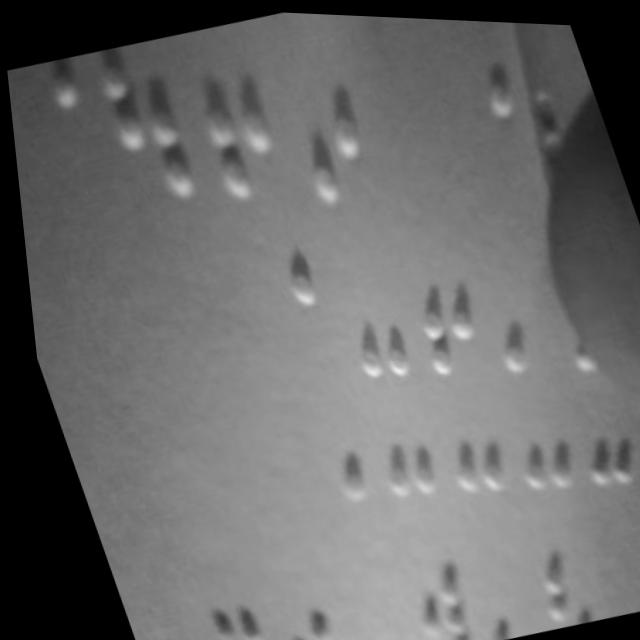braiile: (168, 26, 304, 210), (74, 35, 207, 220), (258, 30, 390, 213), (451, 231, 562, 386), (313, 247, 424, 394), (384, 241, 490, 389), (373, 538, 471, 640), (170, 544, 272, 640), (238, 537, 333, 640), (501, 526, 589, 628), (440, 534, 522, 640)
